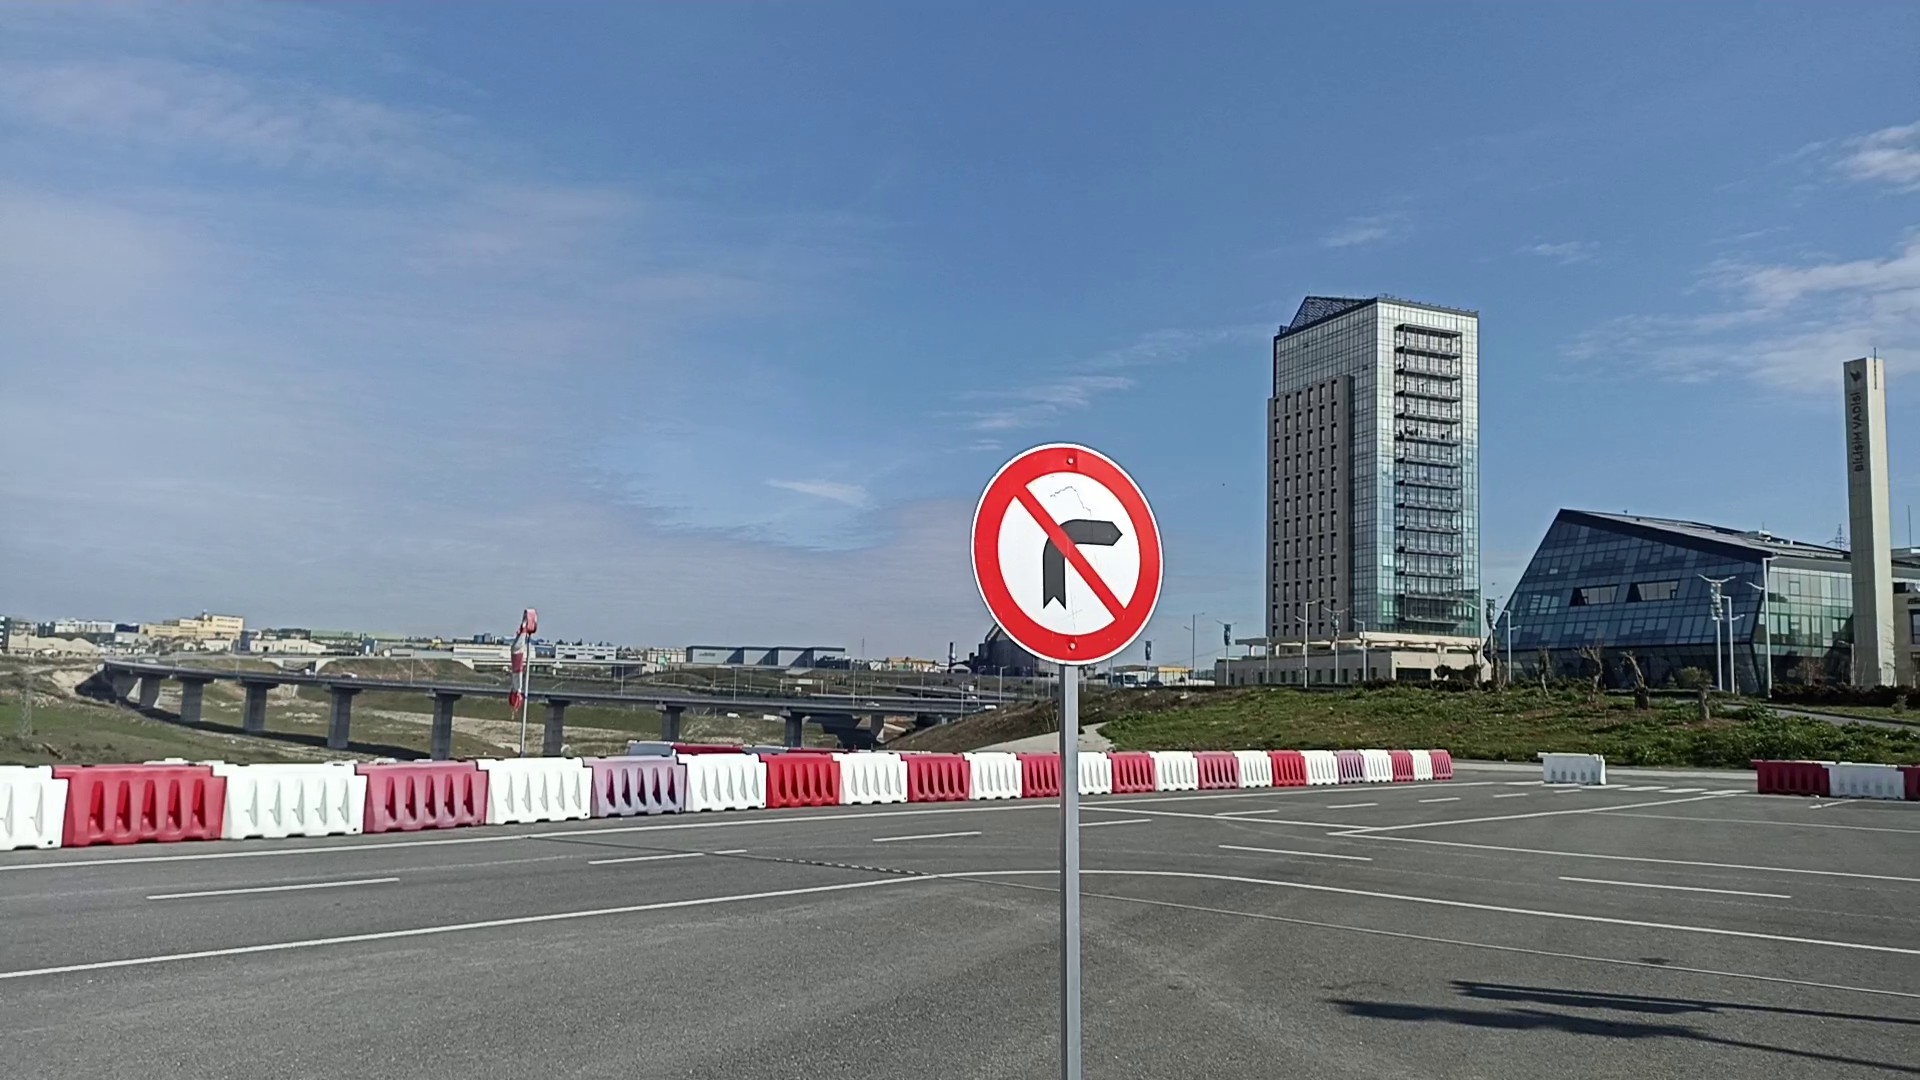noleftturn: (967, 438, 1167, 670)
